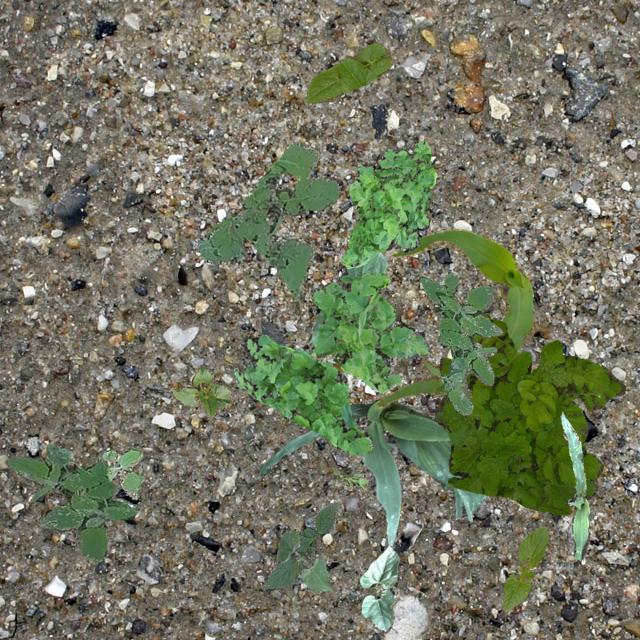crop: (257, 398, 487, 548), (376, 228, 536, 406), (308, 252, 387, 346), (262, 500, 338, 590), (304, 42, 390, 102), (560, 412, 588, 560), (356, 544, 402, 632), (502, 526, 548, 610), (276, 528, 330, 590), (170, 364, 232, 416)
weed: (433, 312, 624, 514), (196, 142, 338, 300), (232, 332, 372, 453), (4, 442, 136, 560), (308, 272, 430, 392), (342, 140, 436, 268), (418, 272, 502, 414), (102, 446, 144, 498), (332, 468, 368, 491)
